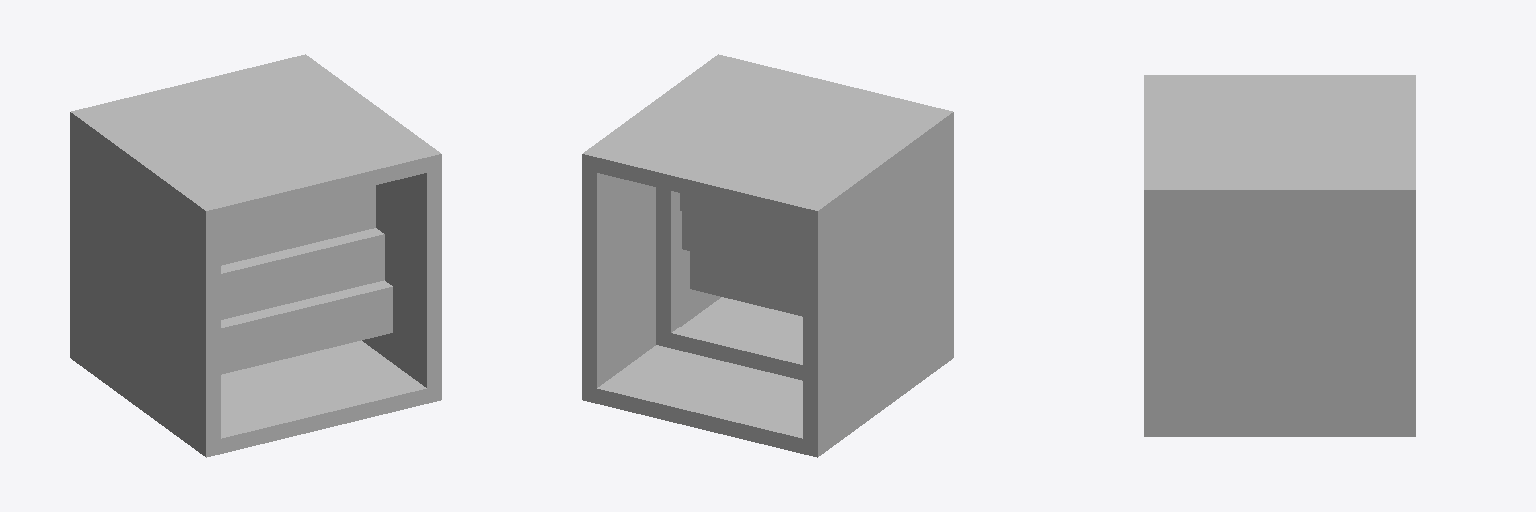
File: cleanroom_check_valve_open.obj
3 views of the same model, side by side, from view 1: azimuth 30°, elevation 25°; view 2: azimuth 150°, elevation 25°; view 3: azimuth 270°, elevation 25° (orthographic).
Visible parts, largest first — view 1: node_0_0_0.007; view 2: node_0_0_0.007; view 3: node_0_0_0.007.
Boxes of the visible parts, box(x1,y1,x2,y2) form: node_0_0_0.007: box(70, 54, 441, 457); node_0_0_0.007: box(582, 54, 953, 457); node_0_0_0.007: box(1144, 75, 1415, 436).
Size of the model in its own units: 1 by 1 by 1.